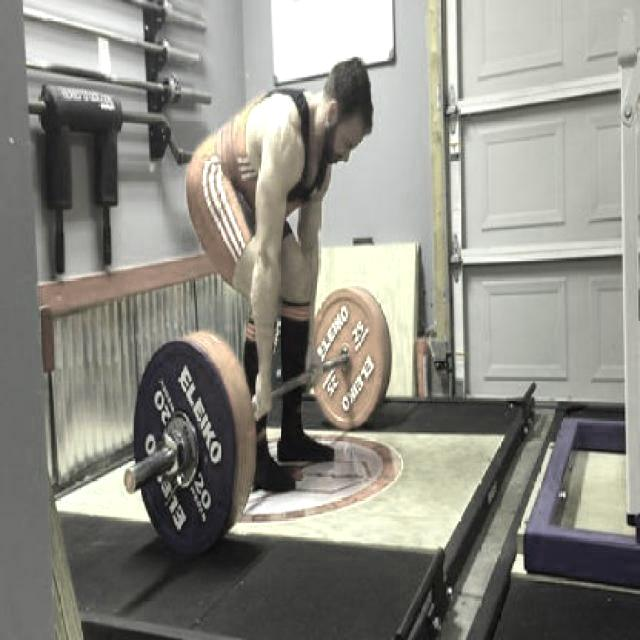barbell: (128, 325, 246, 567)
